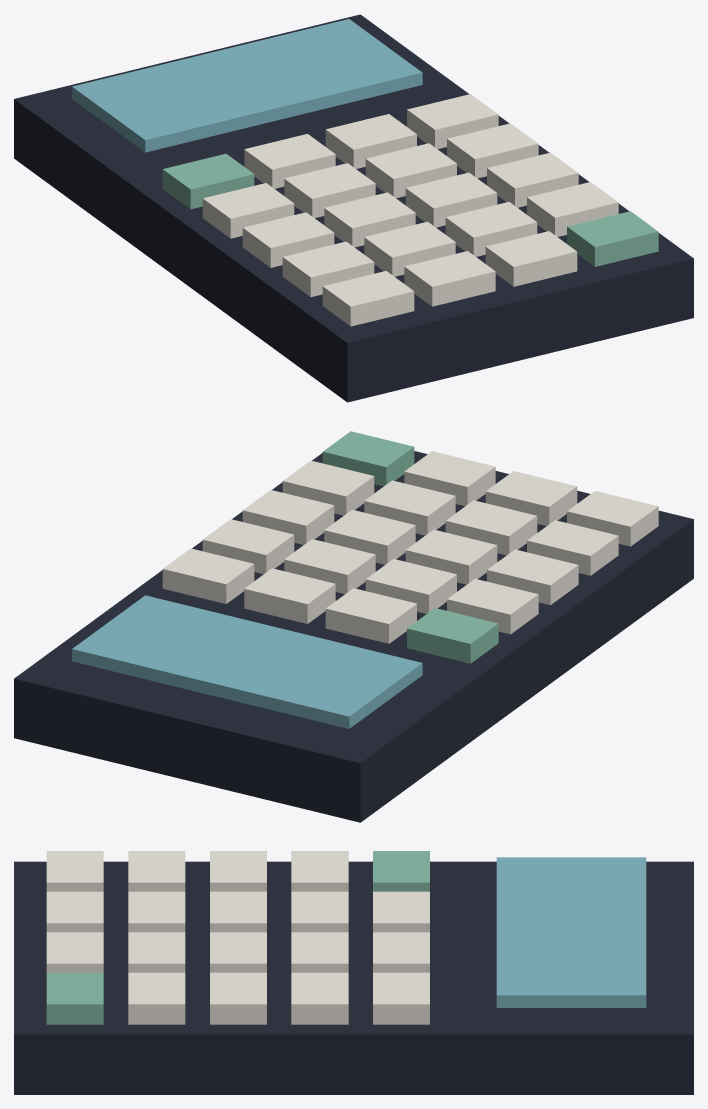
File: calculator.glb
3 views of the same model, one above another, from view 1: azimuth 30°, elevation 25°; view 2: azimuth 150°, elevation 25°; view 3: azimuth 270°, elevation 25° (orthographic).
Visible parts, largest first — view 1: calculator; view 2: calculator; view 3: calculator.
Boxes of the visible parts, x1,y1,x2,y2 form: calculator: (14,14,693,402); calculator: (14,431,693,822); calculator: (14,851,693,1094).
Bounding box in the file's own units: 9 × 2 × 15.
